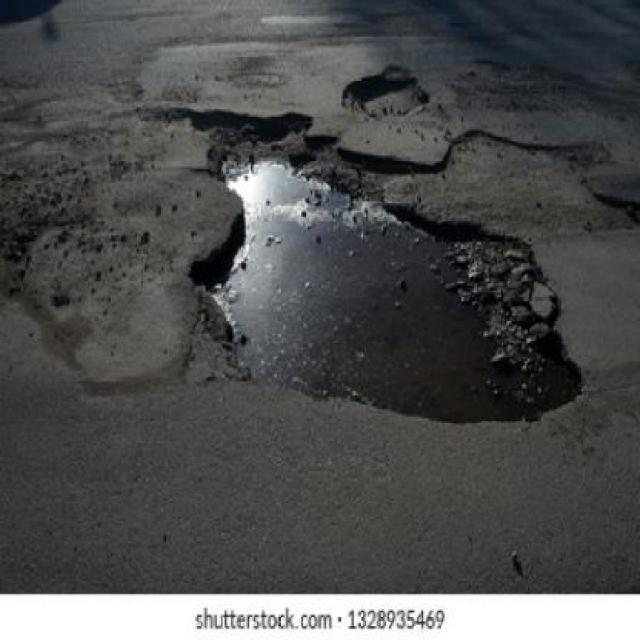Pothole: (151, 106, 640, 428), (343, 65, 429, 118)
